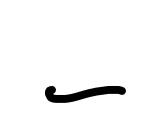minus: (45, 85, 126, 103)
